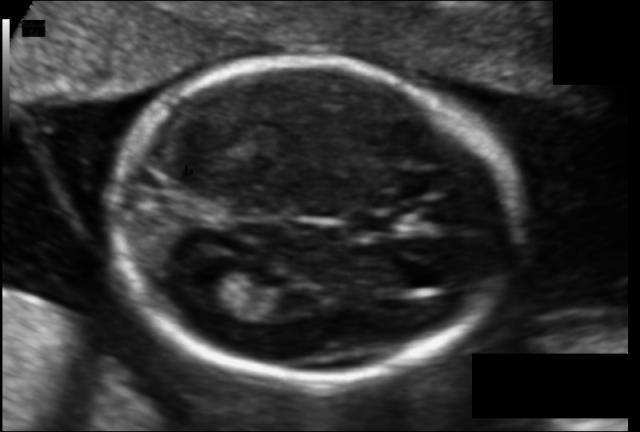CHOROID_PLEXUS: (207, 260, 294, 327)
CSP: (362, 189, 453, 265)
MIDLINE_FALX: (130, 170, 488, 250)
